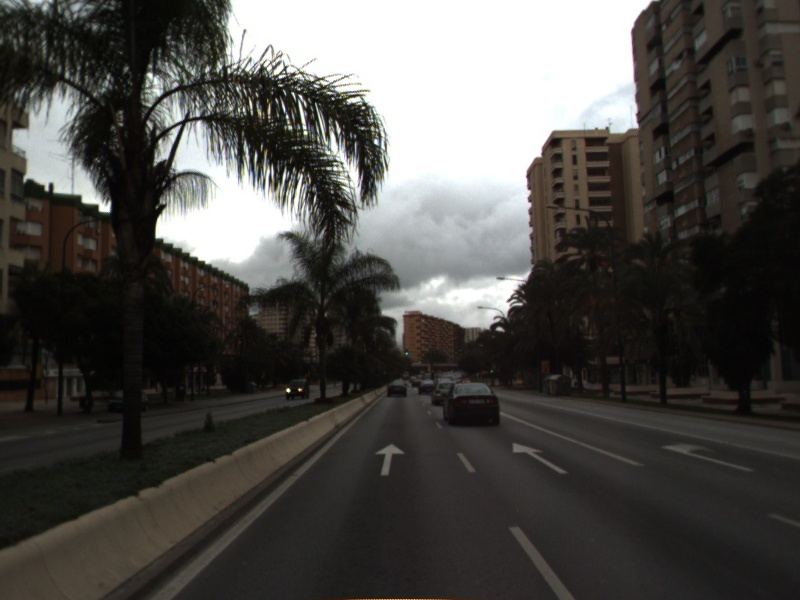RIGHT: (658, 438, 758, 474)
STRAIGHT: (510, 440, 571, 476), (372, 441, 407, 478)
